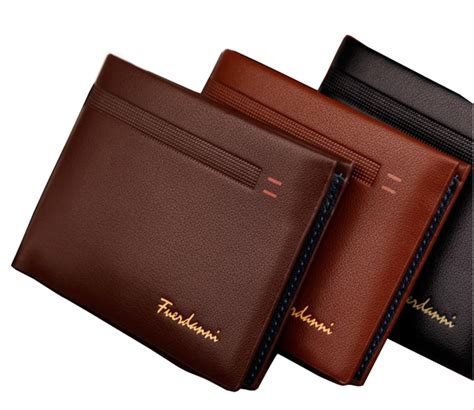cuero: (14, 35, 474, 389)
